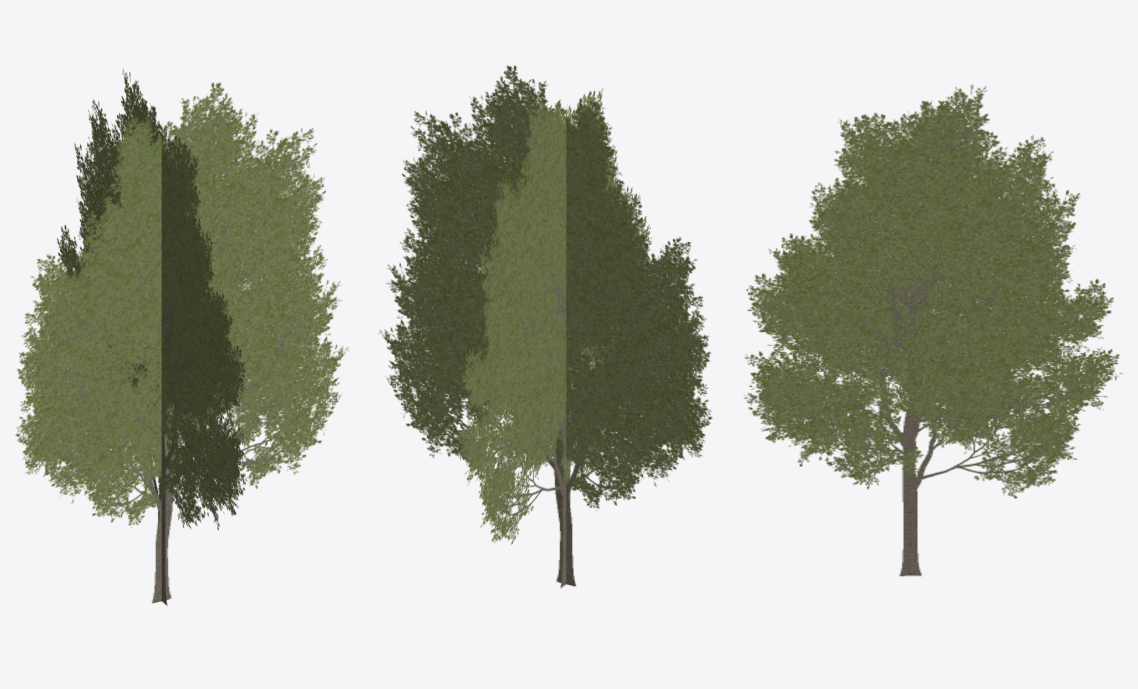
The model's file is SorbusAria.glb.
3 views of the same model, side by side, from view 1: azimuth 30°, elevation 25°; view 2: azimuth 150°, elevation 25°; view 3: azimuth 270°, elevation 25° (orthographic). The views are drawn at different scales.
Visible parts, largest first — view 1: mesh__mat_billboard_4; view 2: mesh__mat_billboard_4; view 3: mesh__mat_billboard_4.
Boxes of the visible parts, x1,y1,x2,y2 form: mesh__mat_billboard_4: (15,69,349,605); mesh__mat_billboard_4: (378,65,712,588); mesh__mat_billboard_4: (744,85,1122,576).
Size of the model in its own units: 6.08 by 8.95 by 6.16.
Materials: 1 (1 with a texture image).
